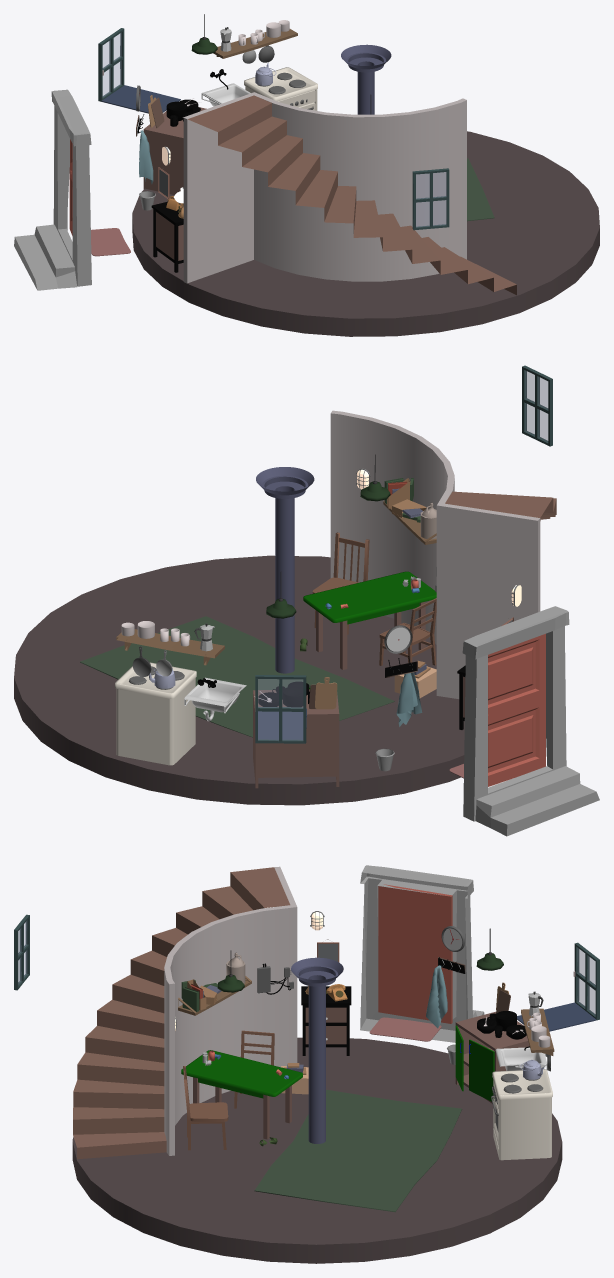
The model's file is Groundfloor.fbx.
The picture shows the model from 3 angles, top to bottom: view 1: azimuth 30°, elevation 25°; view 2: azimuth 150°, elevation 25°; view 3: azimuth 270°, elevation 25°; orthographic projection. The views are drawn at different scales.
Visible parts, largest first — view 1: stairWallGroundFloor, Floor, Stairs.003, doorFrame, window, kitchencabinet, stove, Cylinder.006, nightstand, window.003, windowPlate.001, carpet (+5 smaller); view 2: Floor, stairWallGroundFloor, doorFrame, carpet, Door, stove, table.001, Cylinder.006, kitchencabinet, window.003, window, Stairs.003 (+11 smaller); view 3: Floor, Stairs.003, stairWallGroundFloor, carpet, Door, doorFrame, stove, table.001, Cylinder.006, kitchenDoors, nightstand, window.003 (+12 smaller).
Boxes of the visible parts, left/top/right/bottom form: stairWallGroundFloor: left=183, top=92, right=466, bottom=283; Floor: left=132, top=131, right=599, bottom=336; Stairs.003: left=188, top=95, right=516, bottom=295; doorFrame: left=14, top=89, right=91, bottom=290; window: left=412, top=168, right=449, bottom=230; kitchencabinet: left=143, top=107, right=206, bottom=195; stove: left=244, top=67, right=317, bottom=110; Cylinder.006: left=341, top=44, right=391, bottom=114; nightstand: left=151, top=201, right=183, bottom=272; window.003: left=98, top=28, right=124, bottom=101; windowPlate.001: left=101, top=85, right=180, bottom=113; carpet: left=467, top=158, right=494, bottom=221; Floor: left=14, top=555, right=464, bottom=805; stairWallGroundFloor: left=330, top=410, right=540, bottom=698; doorFrame: left=462, top=606, right=599, bottom=836; carpet: left=80, top=616, right=394, bottom=737; Door: left=488, top=633, right=545, bottom=786; stove: left=115, top=662, right=196, bottom=765; table.001: left=303, top=571, right=436, bottom=669; Cylinder.006: left=256, top=467, right=314, bottom=673; kitchencabinet: left=253, top=689, right=339, bottom=788; window.003: left=255, top=675, right=306, bottom=743; window: left=522, top=365, right=552, bottom=446; Stairs.003: left=445, top=491, right=556, bottom=520; Floor: left=72, top=1037, right=562, bottom=1263; Stairs.003: left=73, top=867, right=290, bottom=1159; stairWallGroundFloor: left=164, top=866, right=297, bottom=1155; carpet: left=254, top=1090, right=461, bottom=1212; Door: left=378, top=884, right=452, bottom=1023; doorFrame: left=360, top=865, right=484, bottom=1042; stove: left=491, top=1069, right=552, bottom=1160; table.001: left=181, top=1050, right=302, bottom=1139; Cylinder.006: left=291, top=957, right=343, bottom=1143; kitchenDoors: left=455, top=1025, right=494, bottom=1101; nightstand: left=301, top=986, right=351, bottom=1055; window.003: left=573, top=942, right=599, bottom=1020.
Size of the model in its own units: 864 by 312 by 834.
